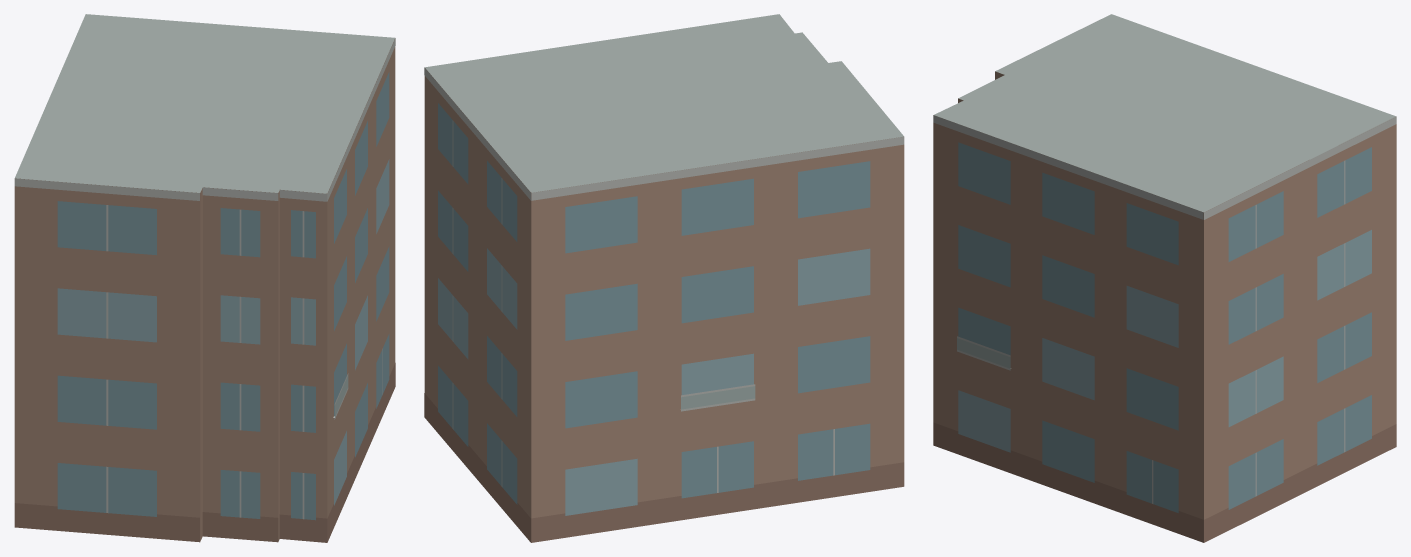
Rendered from survey-upis-32986918.glb.
The picture shows the model from 3 angles, left to right: view 1: azimuth 30°, elevation 25°; view 2: azimuth 150°, elevation 25°; view 3: azimuth 270°, elevation 25°; orthographic projection. The views are drawn at different scales.
Visible parts, largest first — view 1: survey-upis-32986918.tmp; view 2: survey-upis-32986918.tmp; view 3: survey-upis-32986918.tmp.
Boxes of the visible parts, <box> form: survey-upis-32986918.tmp: <box>14,14,395,542</box>; survey-upis-32986918.tmp: <box>424,14,904,542</box>; survey-upis-32986918.tmp: <box>933,14,1396,542</box>.
Size of the model in its own units: 13.66 by 10.6 by 13.47.
